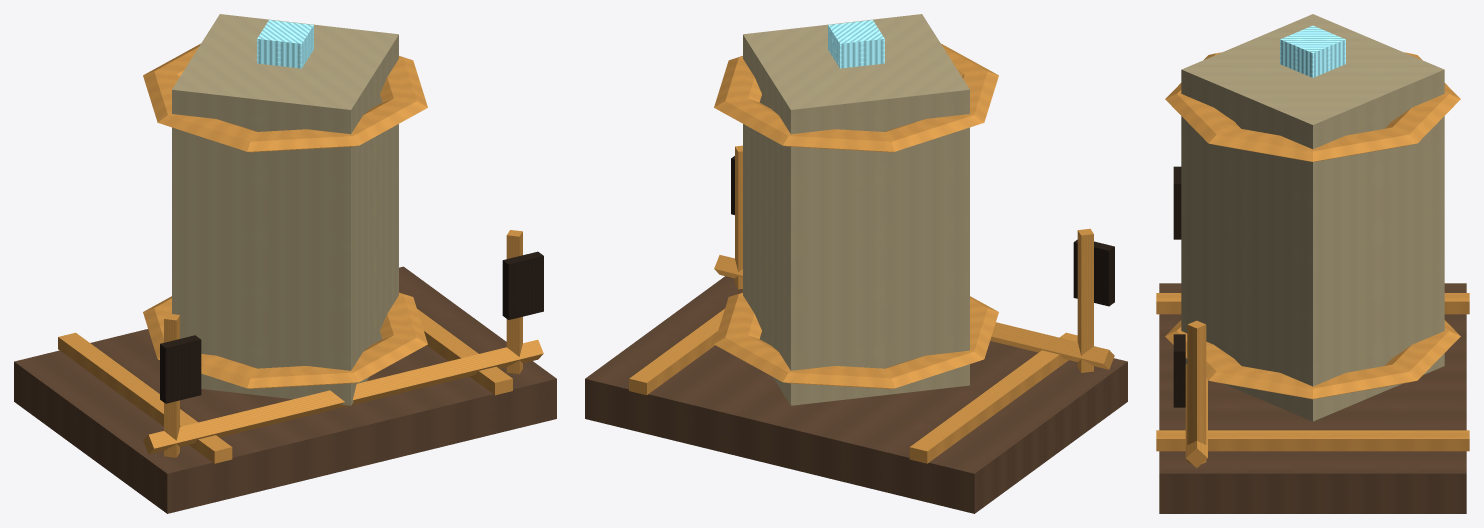
The model's file is atlas100-s015-a02.lod2.glb.
The picture shows the model from 3 angles, left to right: view 1: azimuth 30°, elevation 25°; view 2: azimuth 150°, elevation 25°; view 3: azimuth 270°, elevation 25°; orthographic projection.
Visible parts, largest first — view 1: atlas100-s015-a02:part-003, atlas100-s015-a02:part-000, atlas100-s015-a02:part-005, atlas100-s015-a02:part-011, atlas100-s015-a02:part-004, atlas100-s015-a02:part-001, atlas100-s015-a02:part-008, atlas100-s015-a02:part-010, atlas100-s015-a02:part-006, atlas100-s015-a02:part-002, atlas100-s015-a02:part-009, atlas100-s015-a02:part-007; view 2: atlas100-s015-a02:part-003, atlas100-s015-a02:part-000, atlas100-s015-a02:part-005, atlas100-s015-a02:part-004, atlas100-s015-a02:part-001, atlas100-s015-a02:part-011, atlas100-s015-a02:part-002, atlas100-s015-a02:part-006, atlas100-s015-a02:part-007, atlas100-s015-a02:part-008, atlas100-s015-a02:part-009; view 3: atlas100-s015-a02:part-003, atlas100-s015-a02:part-000, atlas100-s015-a02:part-005, atlas100-s015-a02:part-002, atlas100-s015-a02:part-004, atlas100-s015-a02:part-006, atlas100-s015-a02:part-009, atlas100-s015-a02:part-001, atlas100-s015-a02:part-010, atlas100-s015-a02:part-011, atlas100-s015-a02:part-008.
Part boxes in pixels (bbox=[...]): atlas100-s015-a02:part-003: bbox=[172, 14, 398, 405]; atlas100-s015-a02:part-000: bbox=[14, 266, 556, 513]; atlas100-s015-a02:part-005: bbox=[143, 43, 427, 152]; atlas100-s015-a02:part-011: bbox=[143, 339, 543, 454]; atlas100-s015-a02:part-004: bbox=[143, 292, 427, 388]; atlas100-s015-a02:part-001: bbox=[58, 332, 232, 463]; atlas100-s015-a02:part-008: bbox=[160, 335, 201, 403]; atlas100-s015-a02:part-010: bbox=[502, 251, 543, 319]; atlas100-s015-a02:part-006: bbox=[257, 20, 313, 68]; atlas100-s015-a02:part-002: bbox=[417, 309, 512, 395]; atlas100-s015-a02:part-009: bbox=[506, 230, 522, 373]; atlas100-s015-a02:part-007: bbox=[164, 313, 179, 457]; atlas100-s015-a02:part-003: bbox=[743, 14, 969, 405]; atlas100-s015-a02:part-000: bbox=[585, 276, 1127, 513]; atlas100-s015-a02:part-005: bbox=[714, 43, 998, 152]; atlas100-s015-a02:part-004: bbox=[714, 292, 998, 388]; atlas100-s015-a02:part-001: bbox=[909, 332, 1077, 463]; atlas100-s015-a02:part-011: bbox=[714, 255, 1114, 369]; atlas100-s015-a02:part-002: bbox=[629, 309, 724, 395]; atlas100-s015-a02:part-006: bbox=[828, 20, 884, 68]; atlas100-s015-a02:part-007: bbox=[1077, 228, 1093, 372]; atlas100-s015-a02:part-008: bbox=[1073, 239, 1114, 306]; atlas100-s015-a02:part-009: bbox=[735, 145, 742, 289]; atlas100-s015-a02:part-003: bbox=[1181, 14, 1444, 421]; atlas100-s015-a02:part-000: bbox=[1159, 283, 1466, 513]; atlas100-s015-a02:part-005: bbox=[1165, 52, 1460, 161]; atlas100-s015-a02:part-002: bbox=[1156, 430, 1469, 451]; atlas100-s015-a02:part-004: bbox=[1165, 320, 1460, 399]; atlas100-s015-a02:part-006: bbox=[1280, 25, 1345, 77]; atlas100-s015-a02:part-009: bbox=[1187, 320, 1206, 464]; atlas100-s015-a02:part-001: bbox=[1156, 293, 1469, 314]; atlas100-s015-a02:part-010: bbox=[1173, 334, 1185, 407]; atlas100-s015-a02:part-011: bbox=[1185, 364, 1207, 467]; atlas100-s015-a02:part-008: bbox=[1173, 166, 1181, 239].
Size of the model in its own units: 2.64 by 2.45 by 1.84.
5 materials, 5 textured.
